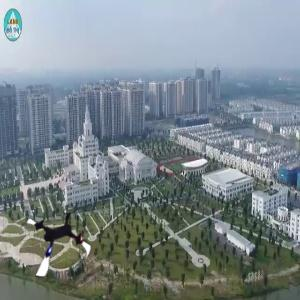drone: (17, 205, 95, 283)
